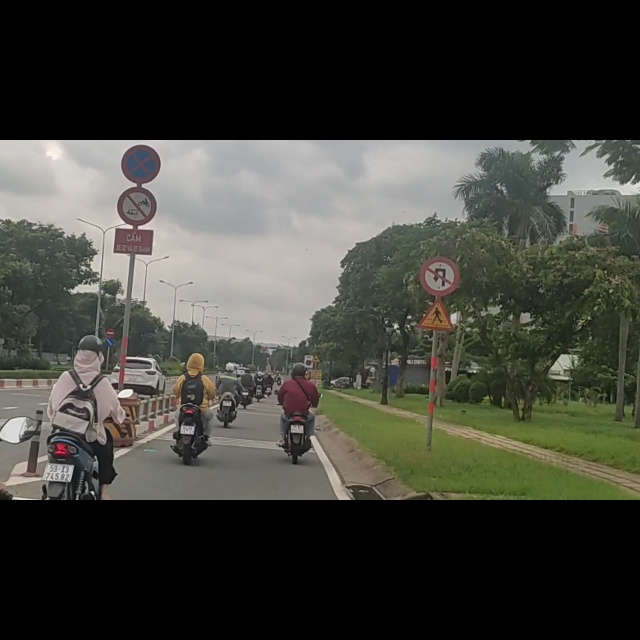bien_nguy_hiem: (419, 207, 460, 277), (117, 83, 157, 152), (122, 8, 161, 77), (419, 280, 455, 340), (106, 334, 115, 351), (105, 352, 113, 367)
